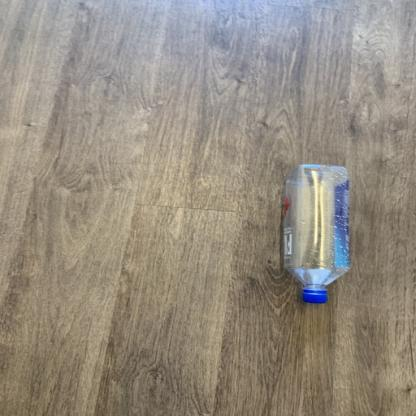trash: (277, 165, 349, 305)
